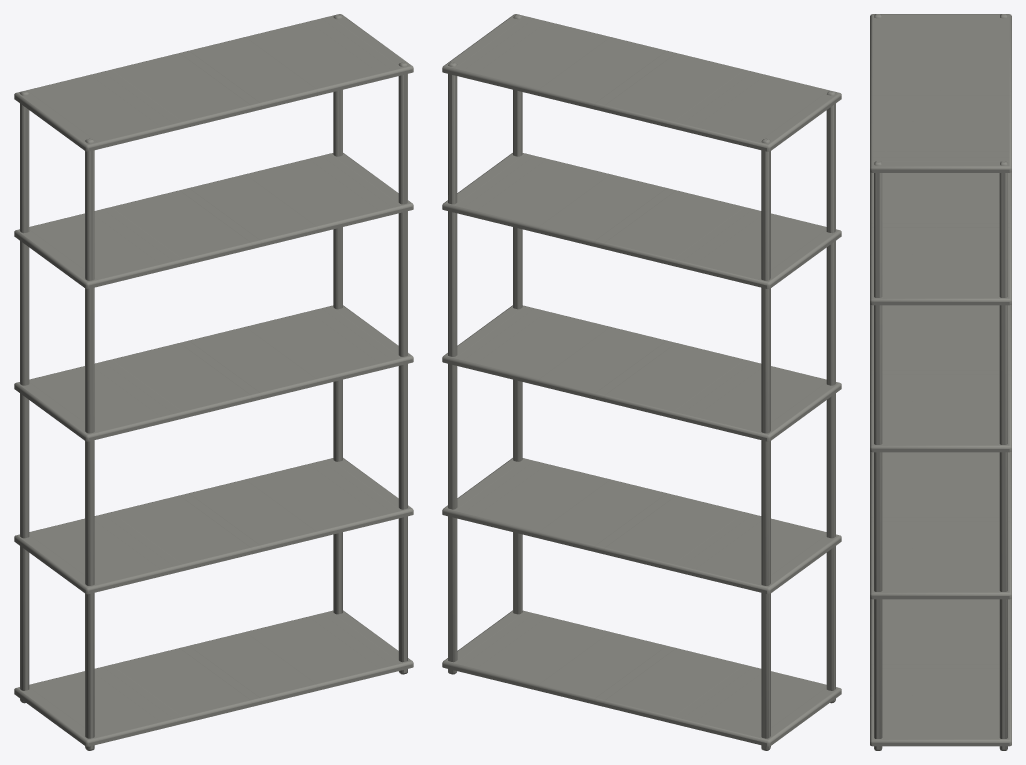
File: KeVLo.glb
3 renders of one model, left to right at view 1: azimuth 30°, elevation 25°; view 2: azimuth 150°, elevation 25°; view 3: azimuth 270°, elevation 25°, orthographic. The views are drawn at different scales.
Visible parts, largest first — view 1: geometry_0; view 2: geometry_0; view 3: geometry_0.
Part boxes in pixels (x1,y1,x2,y2): geometry_0: (14,14,413,750); geometry_0: (442,14,841,750); geometry_0: (870,14,1011,750).
Size of the model in its own units: 0.9 by 1.6 by 0.35.
1 material, 1 textured.
